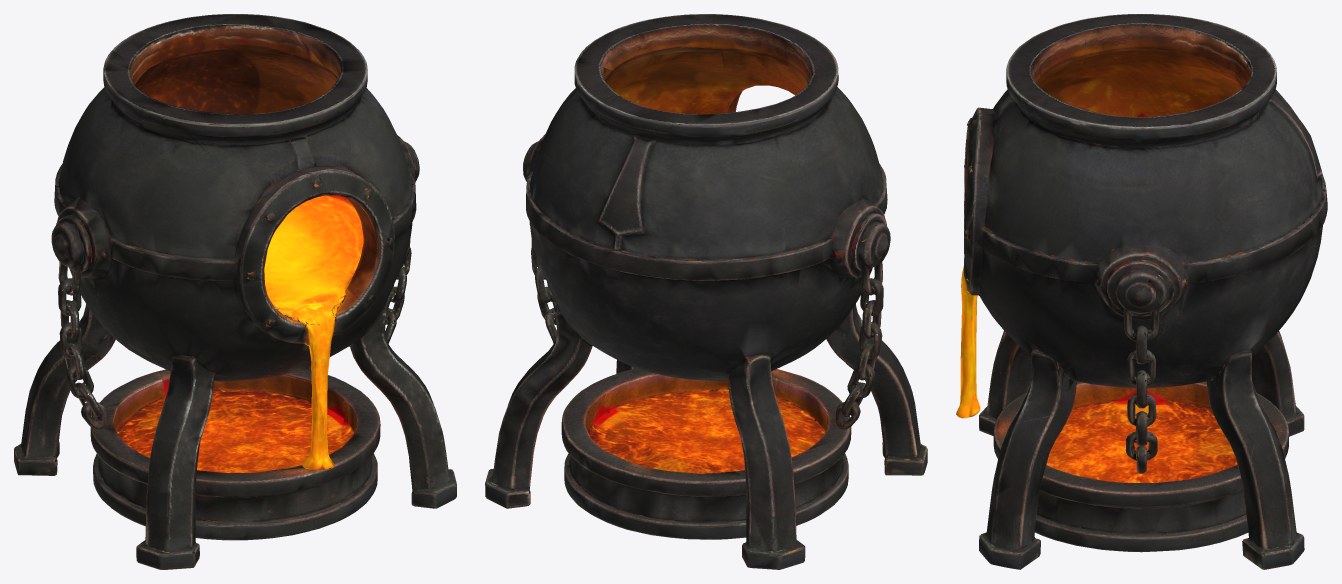
The model's file is tlc_upgrad01.glb.
The picture shows the model from 3 angles, left to right: view 1: azimuth 30°, elevation 25°; view 2: azimuth 150°, elevation 25°; view 3: azimuth 270°, elevation 25°; orthographic projection. The views are drawn at different scales.
Visible parts, largest first — view 1: Mesh_0; view 2: Mesh_0; view 3: Mesh_0.
Boxes of the visible parts, bbox=[...] form: Mesh_0: bbox=[14, 14, 456, 569]; Mesh_0: bbox=[485, 14, 927, 569]; Mesh_0: bbox=[956, 14, 1327, 569].
Size of the model in its own units: 0.5503 by 0.6 by 0.4794.
1 material, 1 textured.
